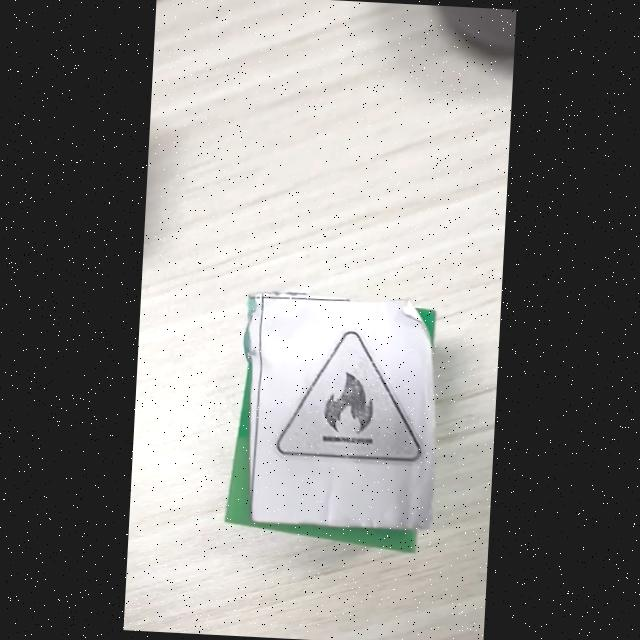Fire: (276, 332, 422, 463)
